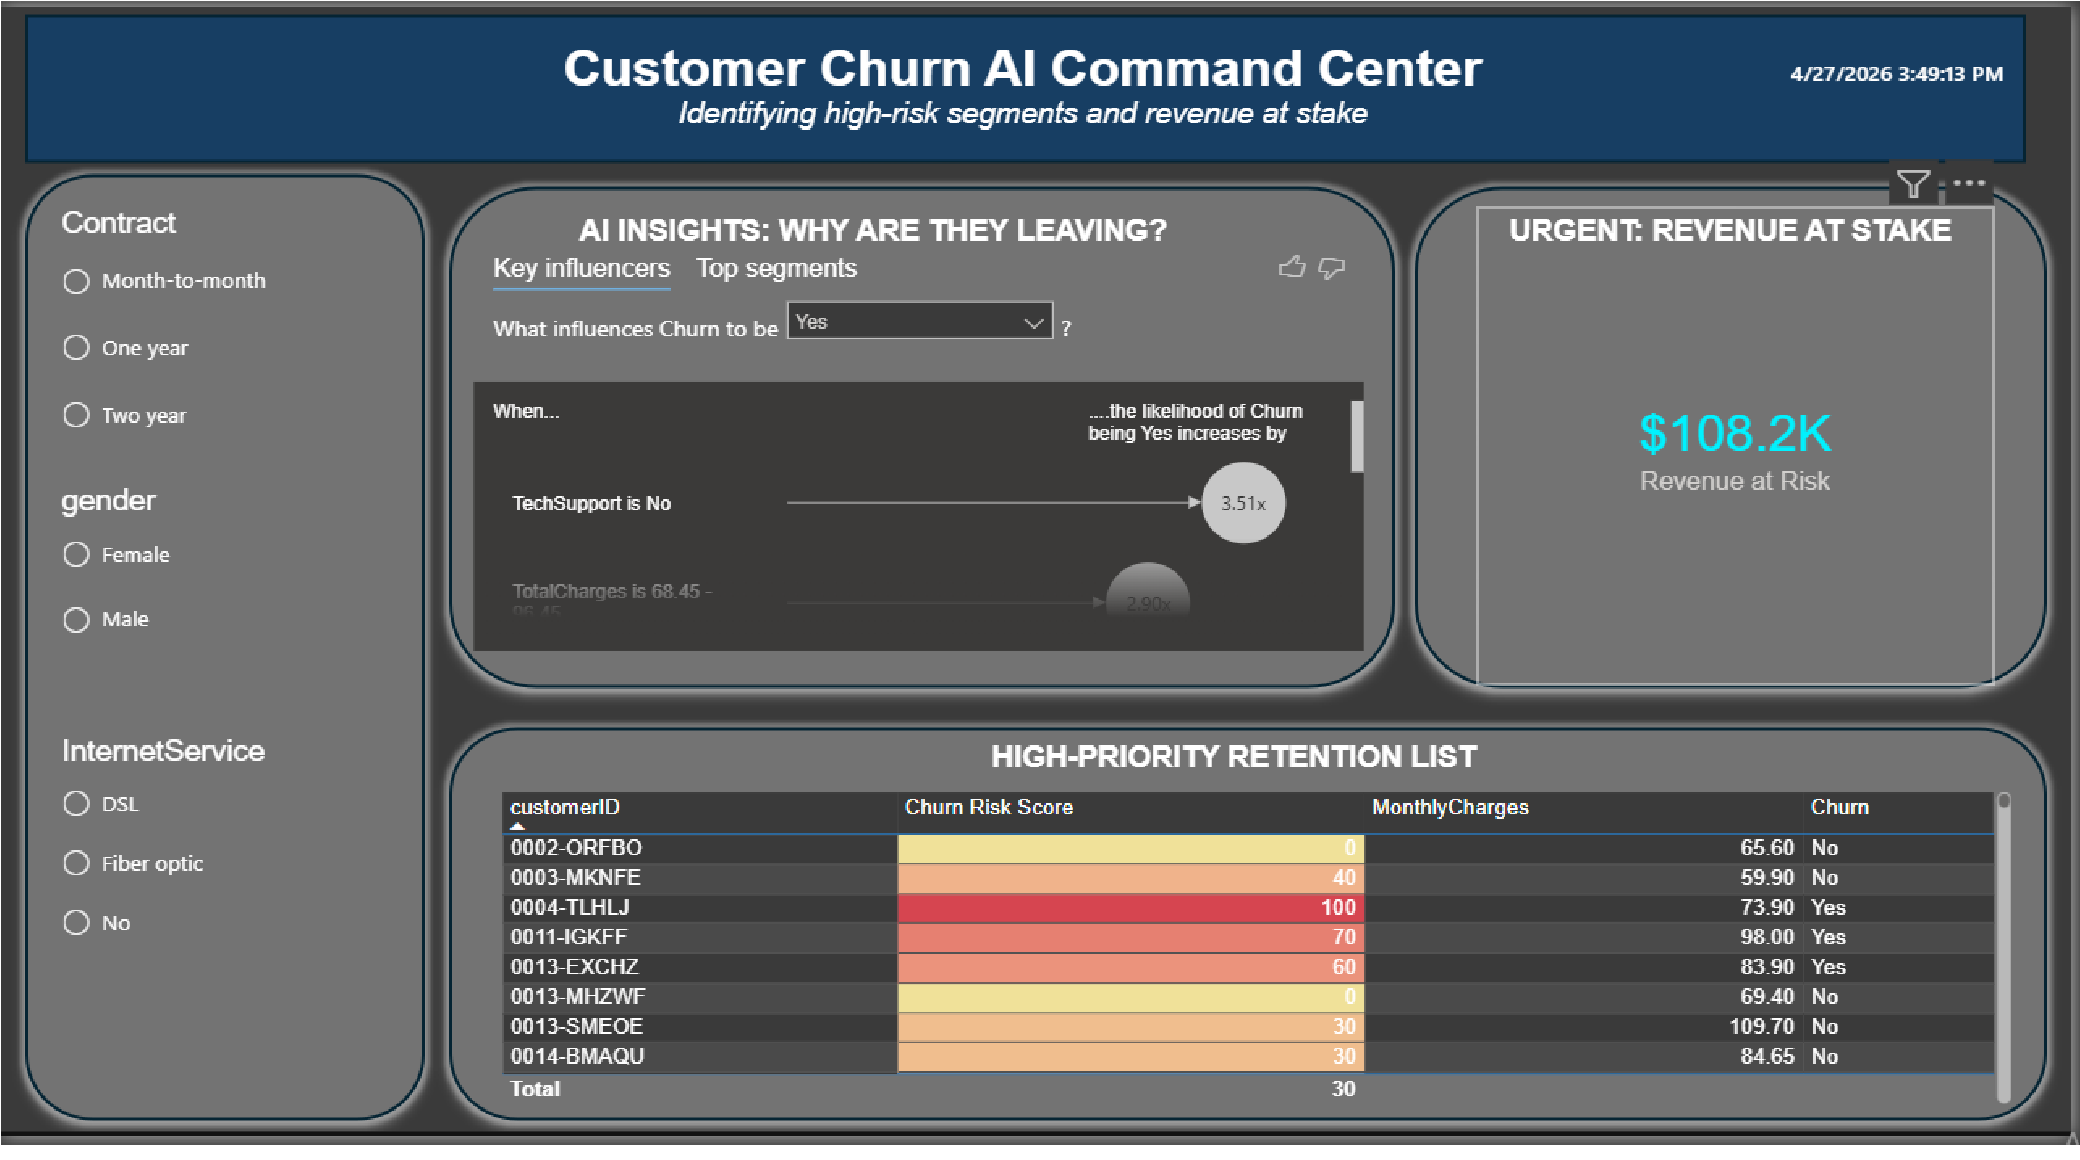

This screenshot's page, from the dashboard's own definition file:
{"tool":"powerbi","page":{"name":"Page 1","canvas":[1280,720],"ordinal":0},"visuals":[{"type":"keyDriversVisual","fields":{"Target":["WA_Fn-UseC_-Telco-Customer-Churn.Churn"],"ExplainBy":["WA_Fn-UseC_-Telco-Customer-Churn.tenure","WA_Fn-UseC_-Telco-Customer-Churn.MonthlyCharges","WA_Fn-UseC_-Telco-Customer-Churn.TotalCharges","WA_Fn-UseC_-Telco-Customer-Churn.TechSupport","WA_Fn-UseC_-Telco-Customer-Churn.InternetService"]},"box":[288,144,560,272],"z":0},{"type":"tableEx","fields":{"Values":["WA_Fn-UseC_-Telco-Customer-Churn.customerID","WA_Fn-UseC_-Telco-Customer-Churn.Churn Risk Score","WA_Fn-UseC_-Telco-Customer-Churn.MonthlyCharges","WA_Fn-UseC_-Telco-Customer-Churn.Churn"]},"box":[304,496,944,208],"z":1000},{"type":"card","fields":{"Values":["WA_Fn-UseC_-Telco-Customer-Churn.Revenue at Risk"]},"box":[912,128,320,304],"z":2000},{"type":"textbox","box":[928,128,304,32],"z":3000},{"type":"textbox","box":[608,464,384,32],"z":4000},{"type":"textbox","box":[352,128,416,32],"z":5000},{"type":"listSlicer","fields":{"Values":["WA_Fn-UseC_-Telco-Customer-Churn.Contract"]},"box":[32,128,144,160],"z":6000},{"type":"listSlicer","fields":{"Values":["WA_Fn-UseC_-Telco-Customer-Churn.gender"]},"box":[32,304,144,112],"z":7000},{"type":"listSlicer","fields":{"Values":["WA_Fn-UseC_-Telco-Customer-Churn.InternetService"]},"box":[32,464,144,144],"z":8000},{"type":"textbox","box":[304,16,656,80],"z":9000},{"type":"cardVisual","fields":{"Data":["Min(RefreshTable.Last Refresh Date)"]},"box":[1088,16,176,48],"z":9001}]}

Visuals, with their boxes in screenshot pixels (x1, y1, x2, y2), scaled from the page's 1280x720 canvas onto the 2080x1160 screenshot:
keyDriversVisual - WA_Fn-UseC_-Telco-Customer-Churn.Churn x WA_Fn-UseC_-Telco-Customer-Churn.tenure: 468 232 1378 670
tableEx - WA_Fn-UseC_-Telco-Customer-Churn.customerID x WA_Fn-UseC_-Telco-Customer-Churn.Churn Risk Score: 494 799 2028 1134
card - WA_Fn-UseC_-Telco-Customer-Churn.Revenue at Risk: 1482 206 2002 696
textbox: 1508 206 2002 258
textbox: 988 748 1612 799
textbox: 572 206 1248 258
listSlicer - WA_Fn-UseC_-Telco-Customer-Churn.Contract: 52 206 286 464
listSlicer - WA_Fn-UseC_-Telco-Customer-Churn.gender: 52 490 286 670
listSlicer - WA_Fn-UseC_-Telco-Customer-Churn.InternetService: 52 748 286 980
textbox: 494 26 1560 155
cardVisual - Min(RefreshTable.Last Refresh Date): 1768 26 2054 103
